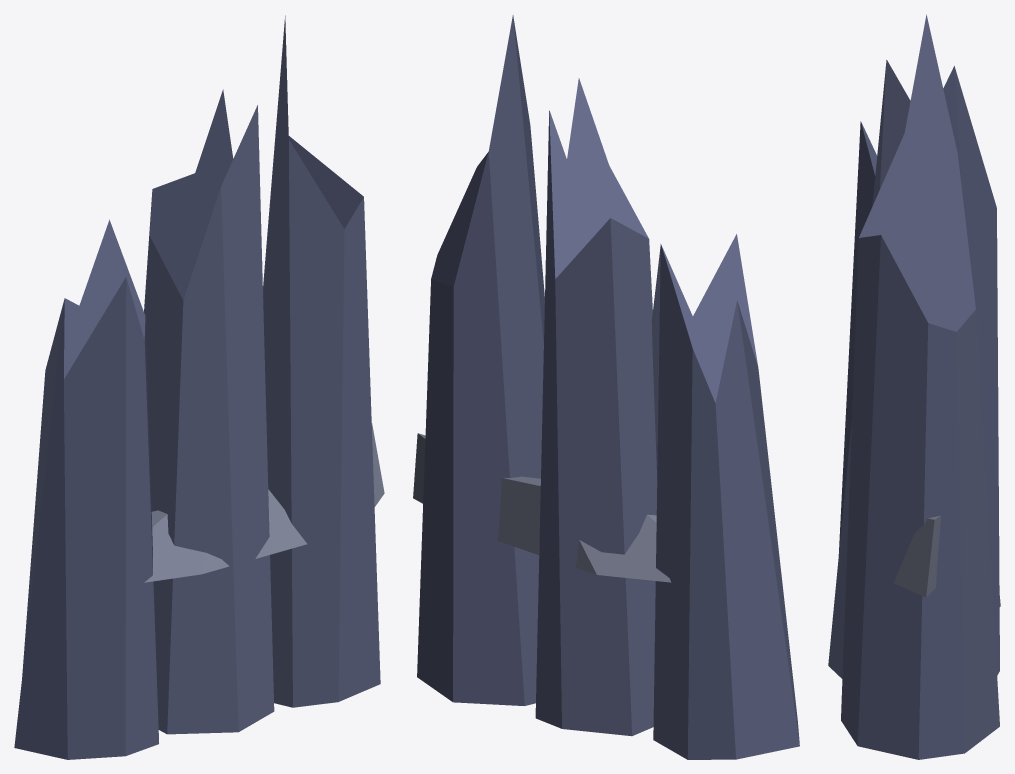
Rendered from map-boundaries-v5__highland_12.glb.
3 views of the same model, side by side, from view 1: azimuth 30°, elevation 25°; view 2: azimuth 150°, elevation 25°; view 3: azimuth 270°, elevation 25° (orthographic). The views are drawn at different scales.
Visible parts, largest first — view 1: highland_12; view 2: highland_12; view 3: highland_12.
Part boxes in pixels (left/top/right/bottom): highland_12: left=14, top=15, right=384, bottom=759; highland_12: left=413, top=15, right=799, bottom=759; highland_12: left=828, top=14, right=1000, bottom=759.
Size of the model in its own units: 1.62 by 2.72 by 0.6077.
